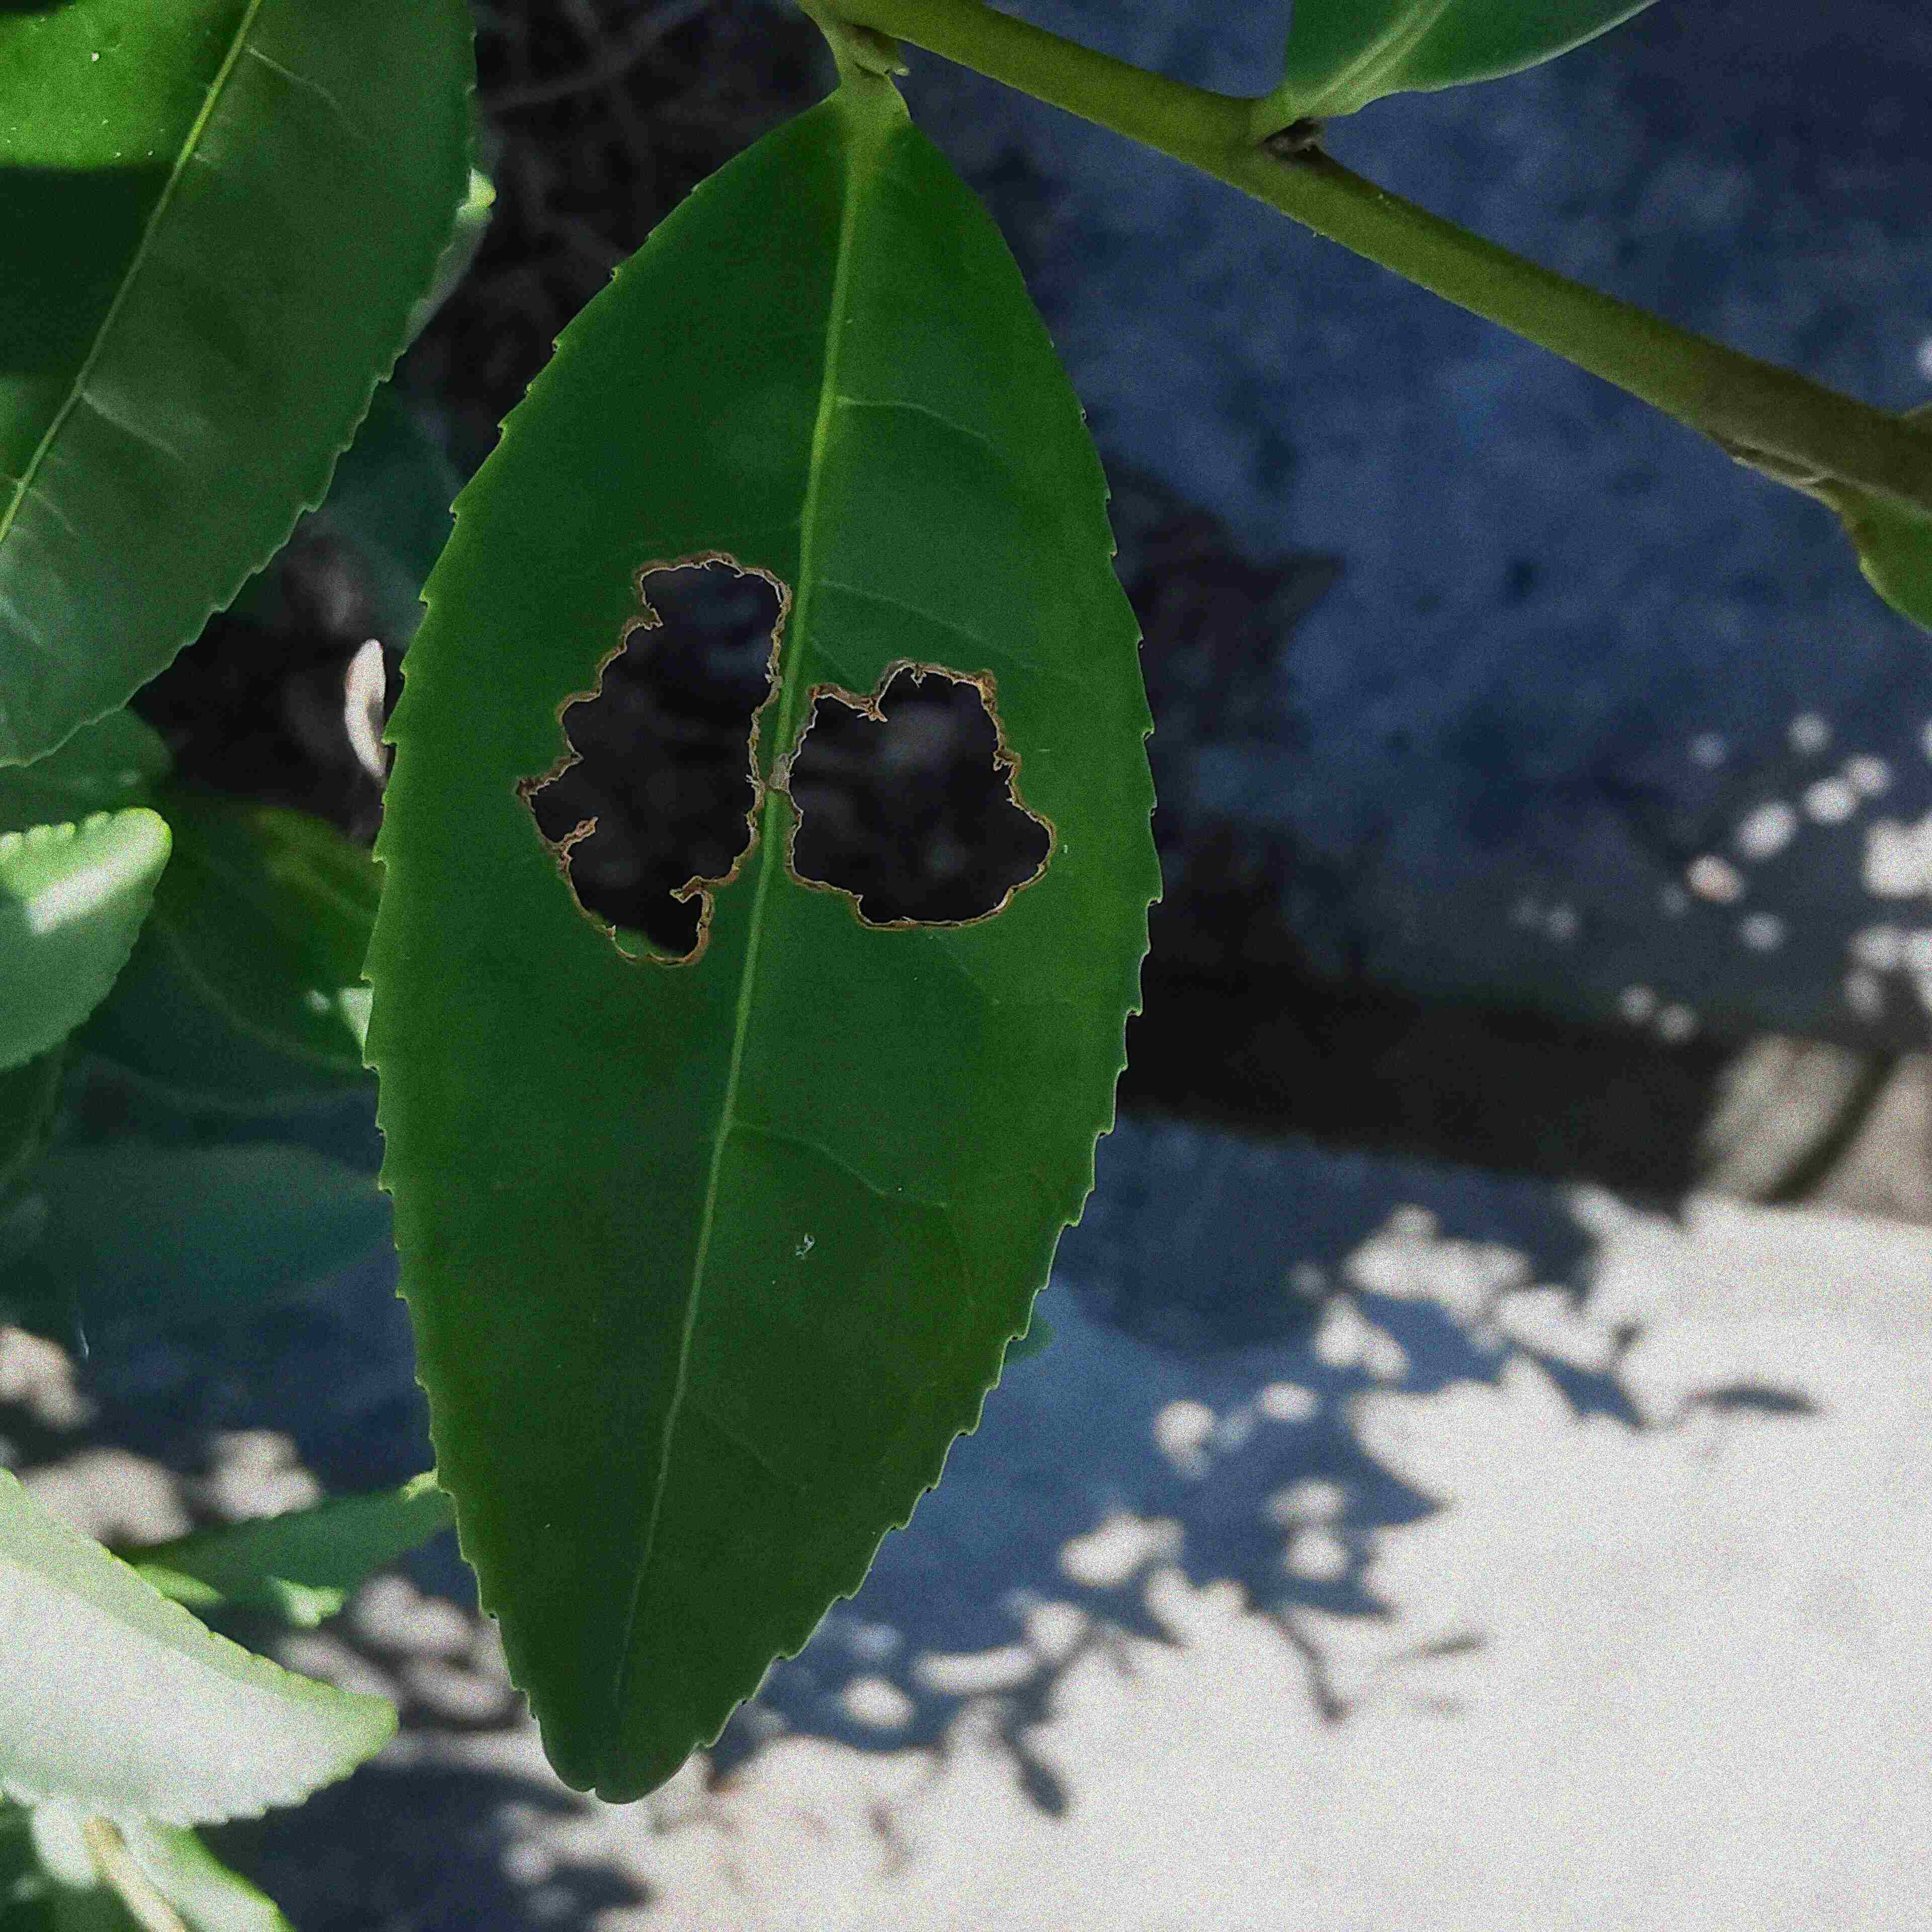chihuo_high: (357, 74, 1175, 1803)
